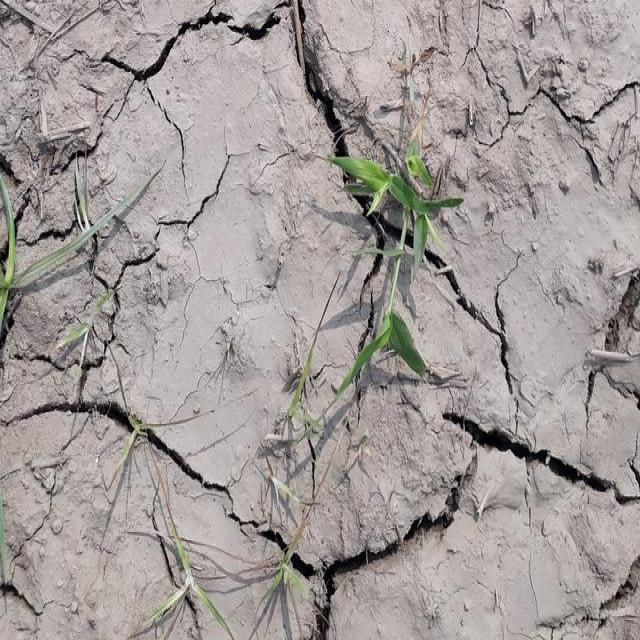weed: (323, 117, 465, 391)
